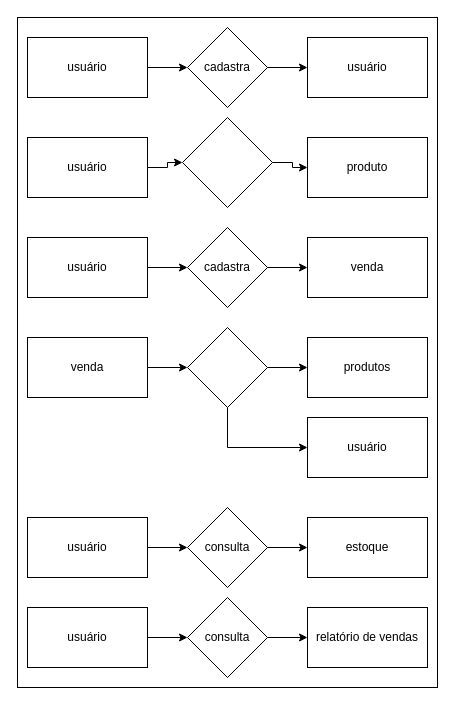
Some shapes in this 455 by 705 pixel diagram are drawn without their labels. Each missing label, with the box of its shape:
contém: (186, 326, 268, 408)
edita cadastra consulta: (182, 116, 272, 208)
